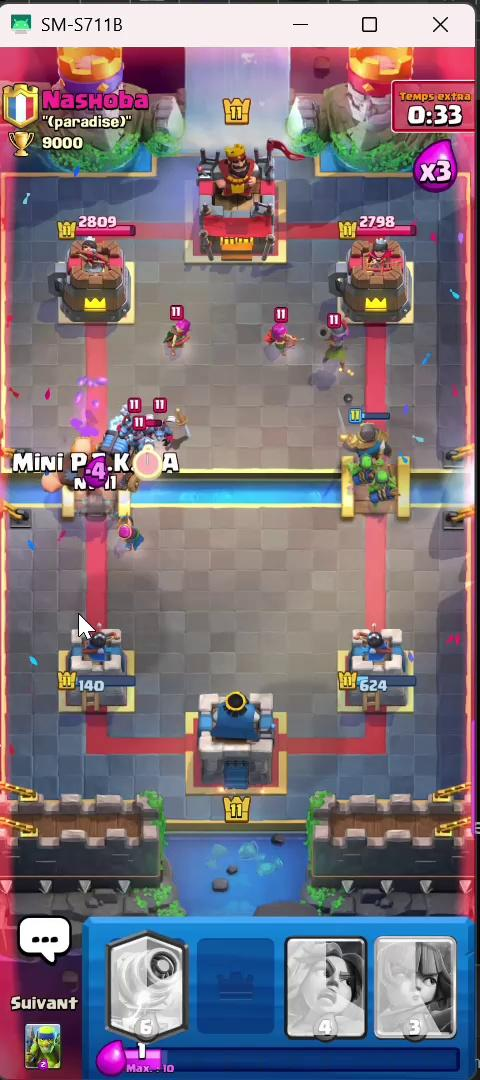archere: (111, 514, 165, 577), (253, 288, 292, 367), (158, 296, 203, 359)
chevalier: (327, 408, 408, 458)
gargouille: (130, 428, 163, 458), (152, 412, 178, 442), (118, 403, 138, 441)
geant: (21, 434, 115, 491)
gobelin_lances: (366, 469, 414, 504), (341, 452, 388, 486)
mini_PEKKA: (52, 497, 132, 529)
mousquetaire: (318, 308, 364, 386)
zappy: (90, 398, 148, 475)
